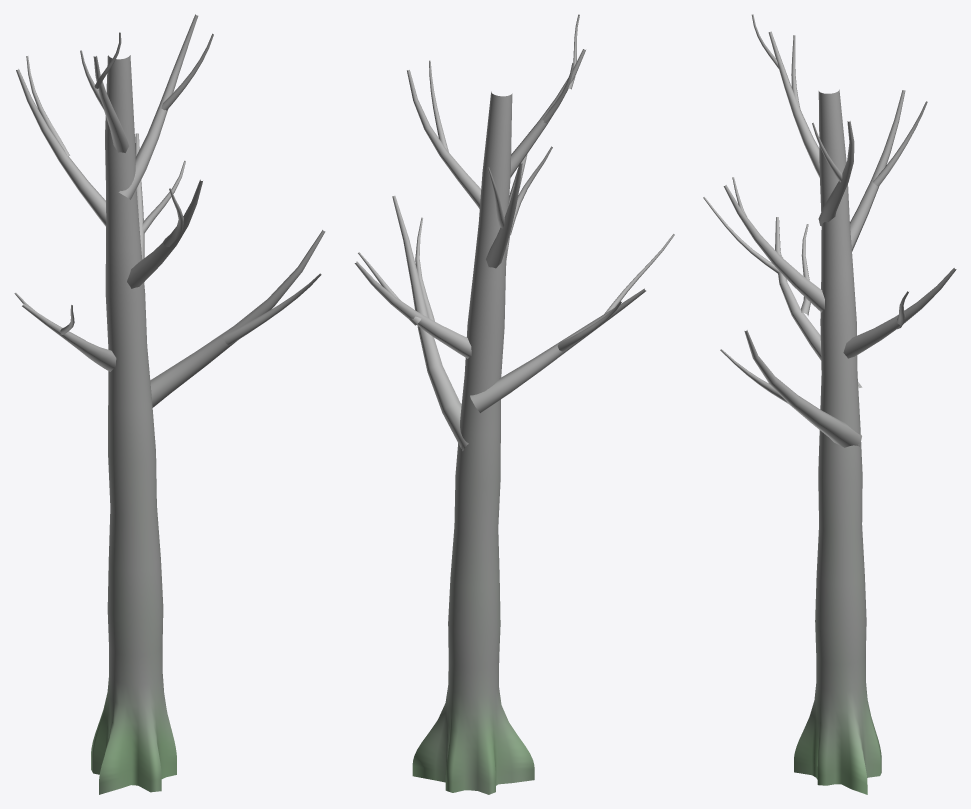
Rendered from jungleB_bark_lod0.glb.
3 views of the same model, side by side, from view 1: azimuth 30°, elevation 25°; view 2: azimuth 150°, elevation 25°; view 3: azimuth 270°, elevation 25° (orthographic). The views are drawn at different scales.
Parts seen in each view (by area): view 1: jungleB; view 2: jungleB; view 3: jungleB.
Boxes of the visible parts, box(x1,y1,x2,y2) form: jungleB: box(14, 14, 325, 794); jungleB: box(354, 14, 674, 794); jungleB: box(703, 14, 956, 794).
Size of the model in its own units: 13.4 by 35.27 by 11.13.
